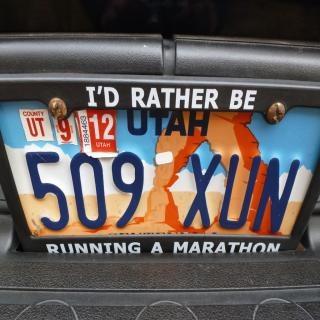license: (1, 101, 320, 256)
